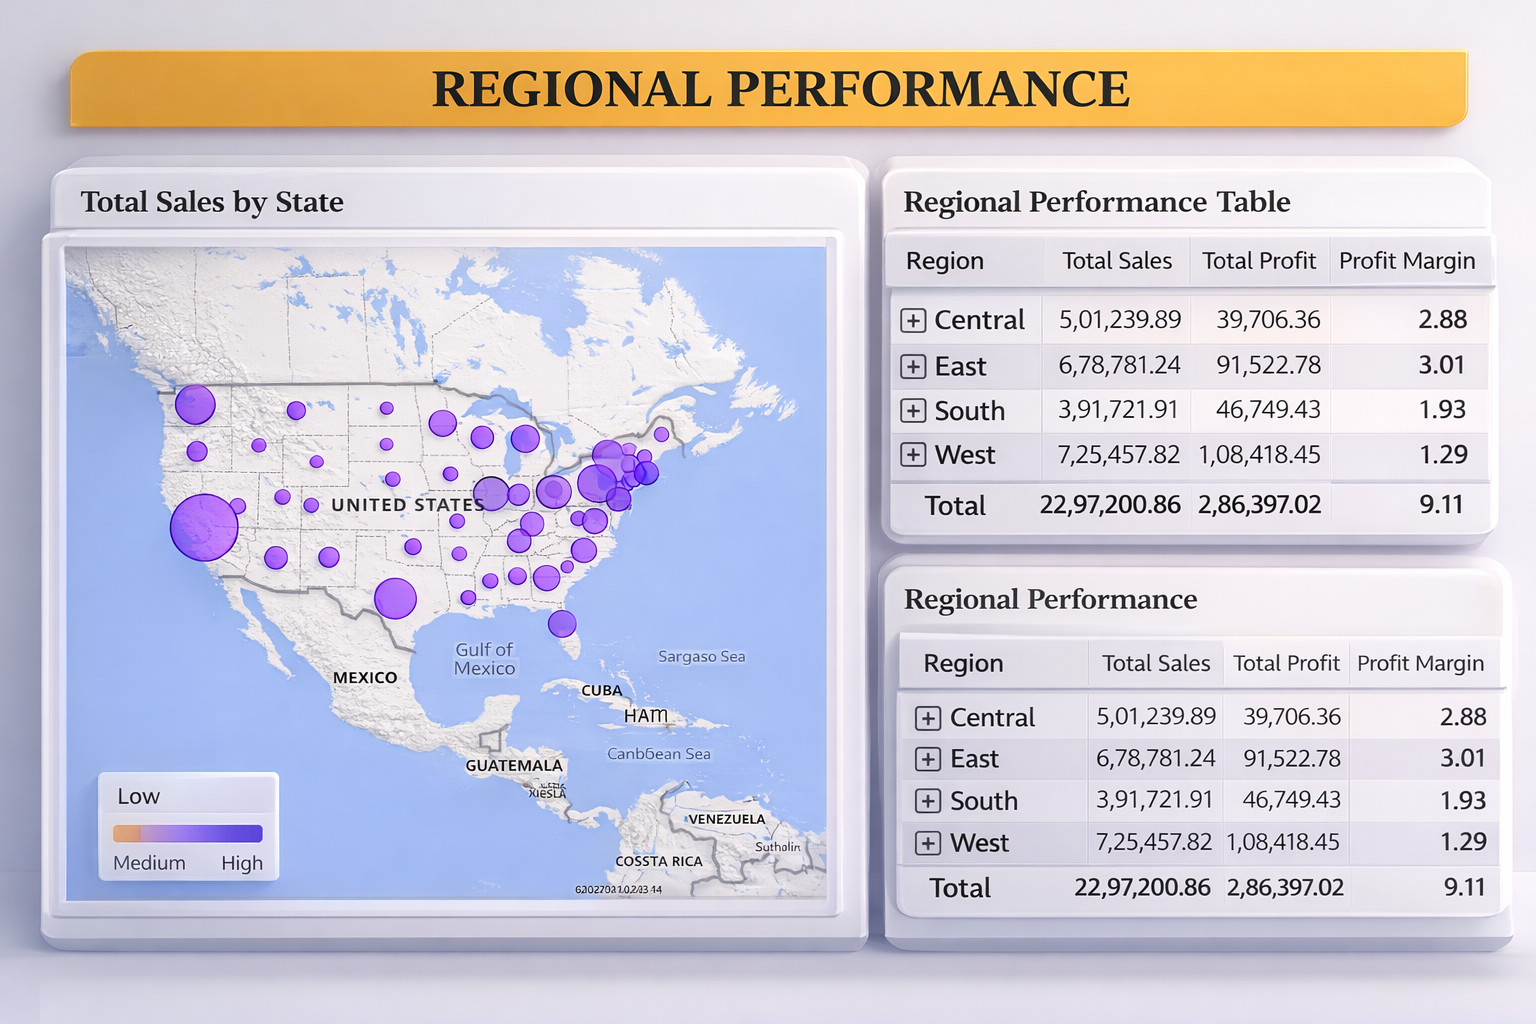

What the dashboard file says about the page in this screenshot:
{"tool":"powerbi","page":{"name":"Regional Performance","canvas":[1280,720],"ordinal":2},"visuals":[{"type":"map","title":"Total Sales by State","fields":{"Category":["regional_summary.State"],"Size":["Sum(regional_summary.Total_Sales)"]},"box":[0,79.6,565.4,640.8],"z":0},{"type":"textbox","title":"Regional Performance","box":[0,0,1280,78.6],"z":1},{"type":"pivotTable","title":"Regional Performance Table","fields":{"Rows":["regional_summary.Region","regional_summary.State"],"Values":["Sum(regional_summary.Total_Sales)","Sum(regional_summary.Total_Profit)","Sum(regional_summary.Profit_Margin)"]},"box":[565.4,199,714.9,321.1],"z":3}]}

Visuals, with their boxes on the page's 1280x720 design canvas (x1, y1, x2, y2). These are canvas units, not pixel positions in the 1536x1024 screenshot, which may show the page scaled, cropped or inside an application window:
"Total Sales by State" map: crop(0, 80, 565, 720)
"Regional Performance" textbox: crop(0, 0, 1280, 79)
"Regional Performance Table" pivotTable: crop(565, 199, 1280, 520)
